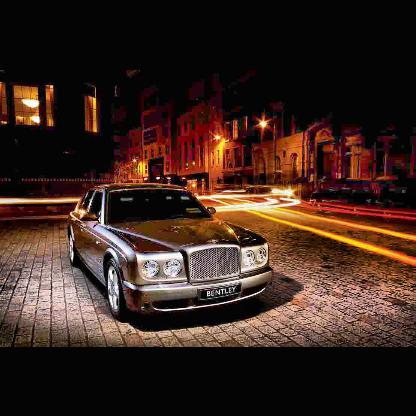Bentley Arnage Sedan 2009: (67, 181, 274, 321)
